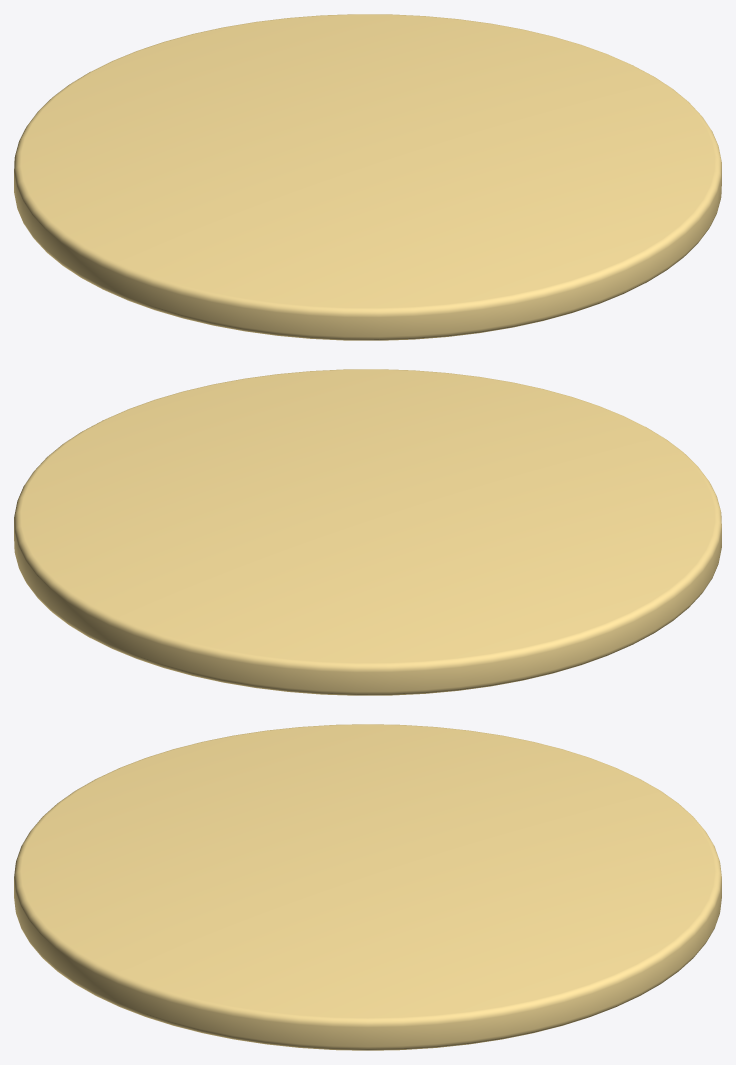
The model's file is coin.glb.
The picture shows the model from 3 angles, top to bottom: view 1: azimuth 30°, elevation 25°; view 2: azimuth 150°, elevation 25°; view 3: azimuth 270°, elevation 25°; orthographic projection.
Parts seen in each view (by area): view 1: coin; view 2: coin; view 3: coin.
Part boxes in pixels (x1=…): coin: x1=14, y1=14, x2=721, y2=340; coin: x1=14, y1=369, x2=721, y2=695; coin: x1=14, y1=724, x2=721, y2=1050.
Bounding box in the file's own units: 2 × 0.1 × 2.
